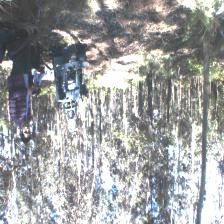trunktrack_idkeyframe: (201, 54, 210, 164)
